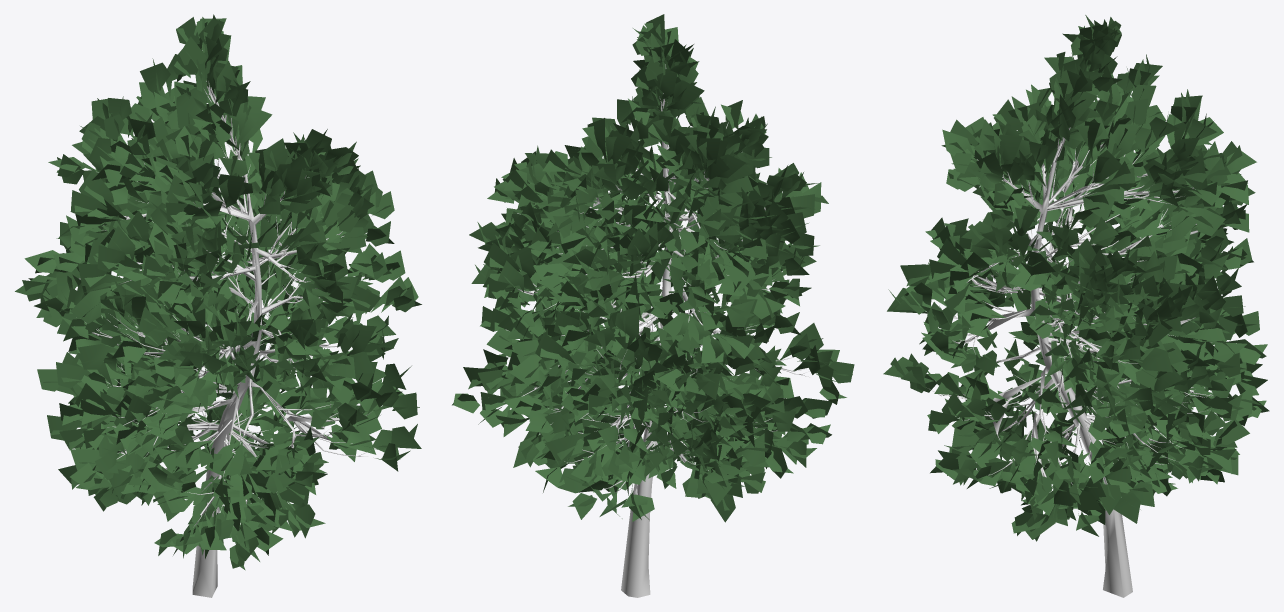
File: Baum1.fbx
The picture shows the model from 3 angles, left to right: view 1: azimuth 30°, elevation 25°; view 2: azimuth 150°, elevation 25°; view 3: azimuth 270°, elevation 25°; orthographic projection. The views are drawn at different scales.
Parts seen in each view (by area): view 1: Tree_Pinus-ponderosa_D_spring-summer-autumn.001; view 2: Tree_Pinus-ponderosa_D_spring-summer-autumn.001; view 3: Tree_Pinus-ponderosa_D_spring-summer-autumn.001.
Boxes of the visible parts, <box> form: Tree_Pinus-ponderosa_D_spring-summer-autumn.001: <box>15,14,421,597</box>; Tree_Pinus-ponderosa_D_spring-summer-autumn.001: <box>452,14,854,597</box>; Tree_Pinus-ponderosa_D_spring-summer-autumn.001: <box>883,15,1269,597</box>.
Bounding box in the file's own units: 587 × 896 × 549.
